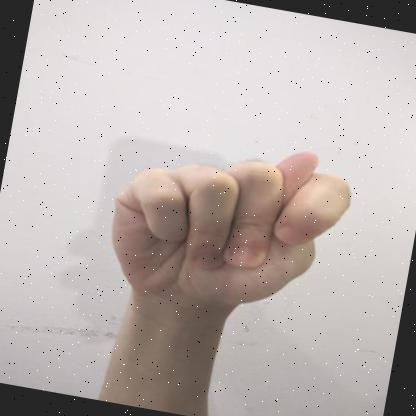T: (111, 151, 351, 319)
